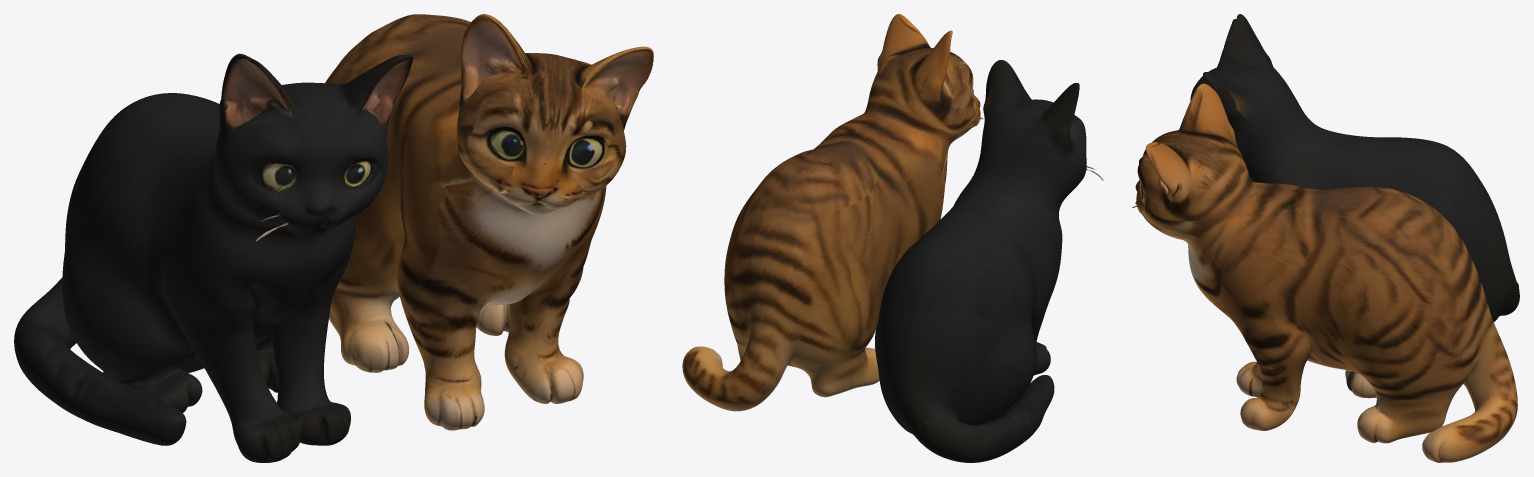
File: cats.glb
3 renders of one model, left to right at view 1: azimuth 30°, elevation 25°; view 2: azimuth 150°, elevation 25°; view 3: azimuth 270°, elevation 25°, orthographic. The views are drawn at different scales.
Visible parts, largest first — view 1: tripo_node_850269c9-c464-4b66-9f40-5df89b4de12d; view 2: tripo_node_850269c9-c464-4b66-9f40-5df89b4de12d; view 3: tripo_node_850269c9-c464-4b66-9f40-5df89b4de12d.
Boxes of the visible parts, x1,y1,x2,y2 form: tripo_node_850269c9-c464-4b66-9f40-5df89b4de12d: (14, 14, 653, 462); tripo_node_850269c9-c464-4b66-9f40-5df89b4de12d: (682, 14, 1103, 462); tripo_node_850269c9-c464-4b66-9f40-5df89b4de12d: (1132, 14, 1519, 462).
Size of the model in its own units: 1 by 0.8488 by 0.9649.
1 material, 1 textured.
